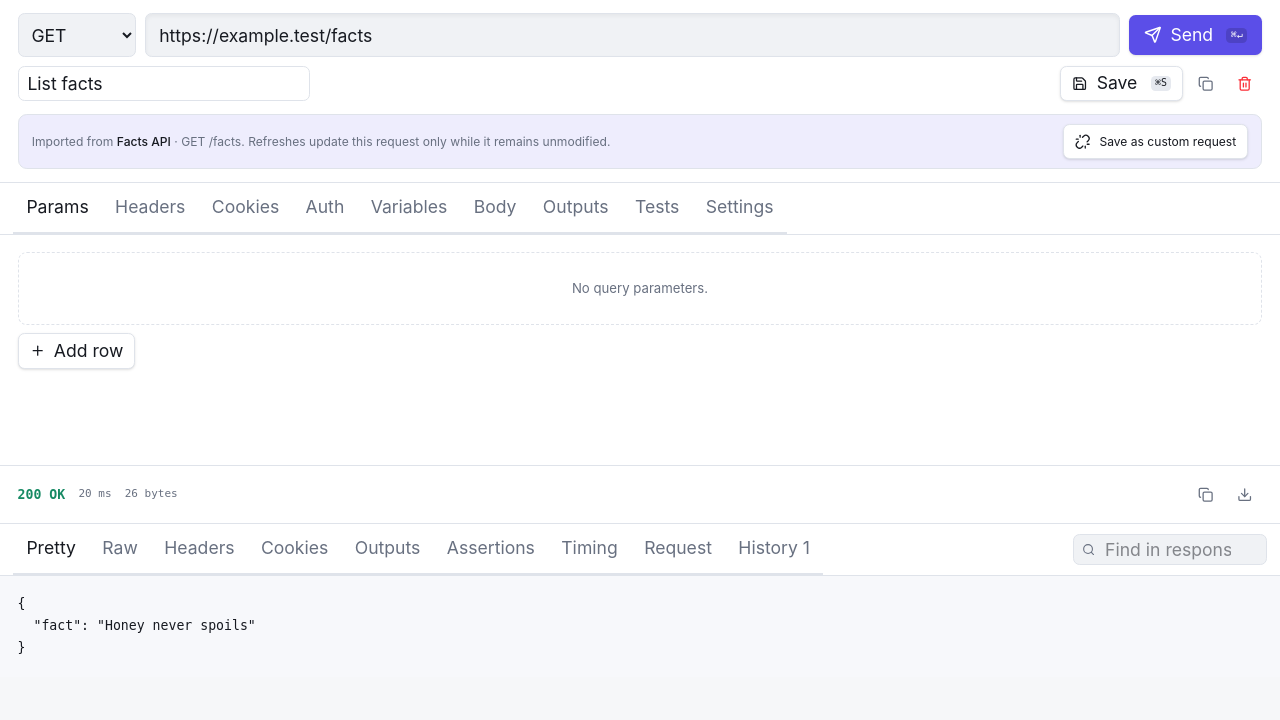
Test: RequestEditor › shows imported provenance and detaches a request as custom
expect the text "Facts API" is shown: met, box [117,134,171,149]
Click the button "Save as custom request" at (1156, 142), box [1063,124,1248,159]
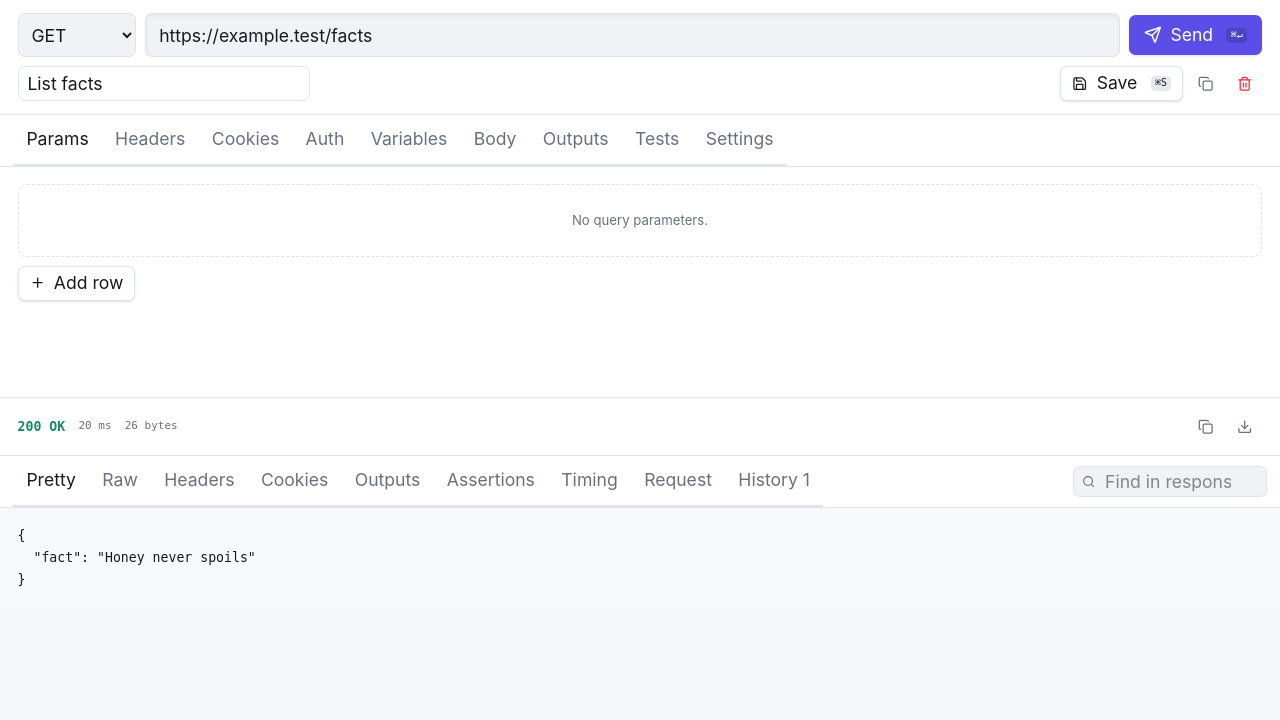
expect the text "Facts API" is gone: met
